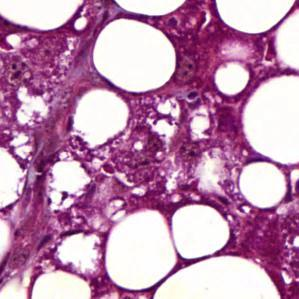steatosis: (89, 20, 178, 94)
